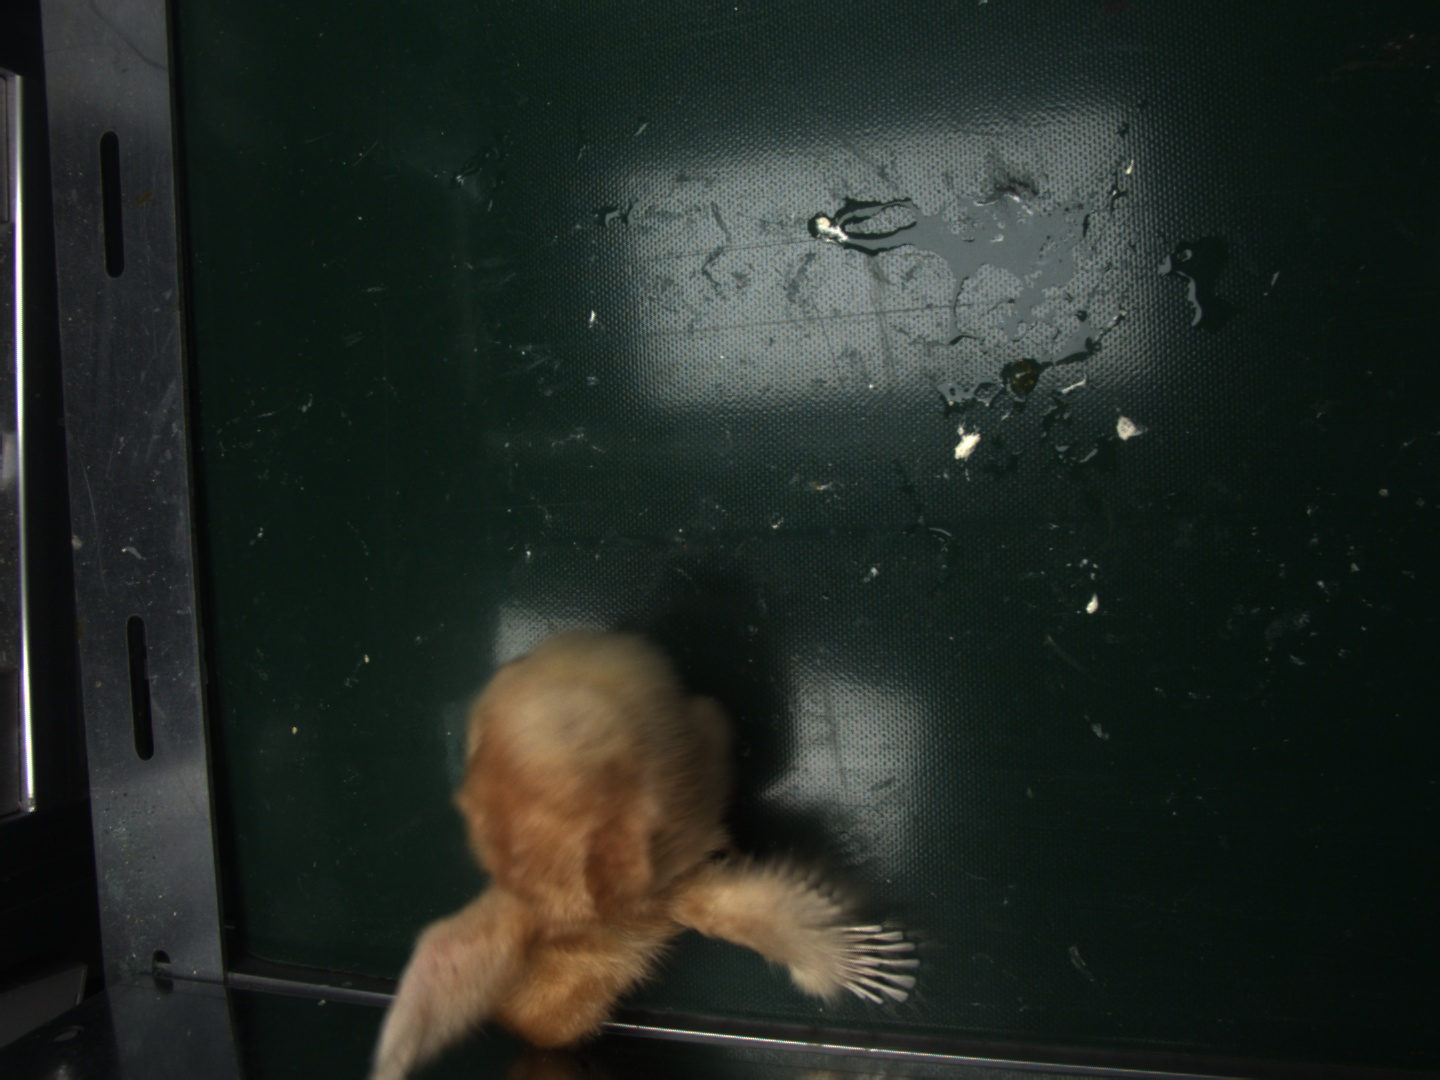female: (833, 925, 916, 1005)
